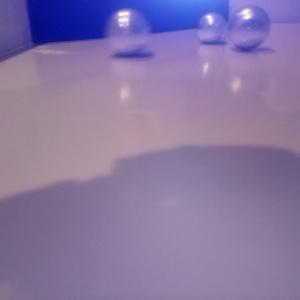alive_ball: (104, 9, 151, 57), (227, 5, 271, 49), (197, 11, 227, 43)
